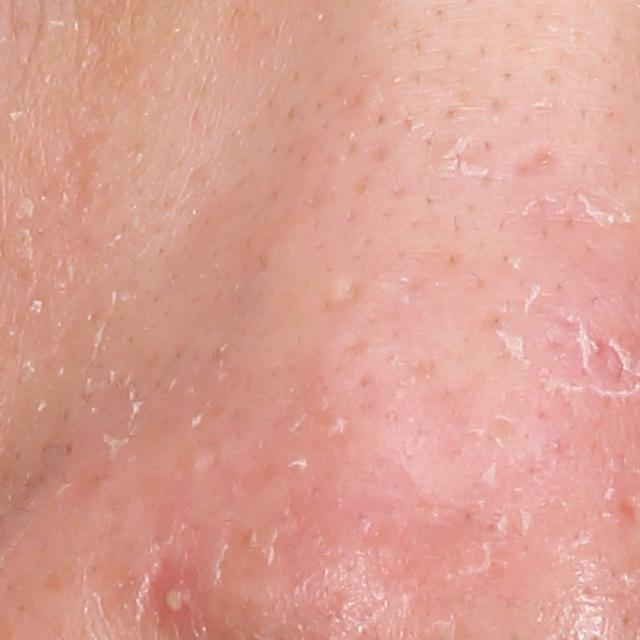atrophic_scar: (506, 138, 564, 187), (323, 276, 366, 317)
pustule: (149, 559, 209, 631)
